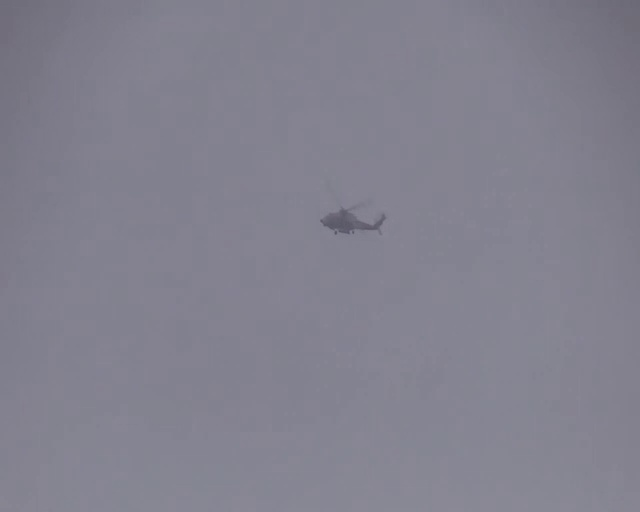HELICOPTER: (319, 197, 386, 236)
